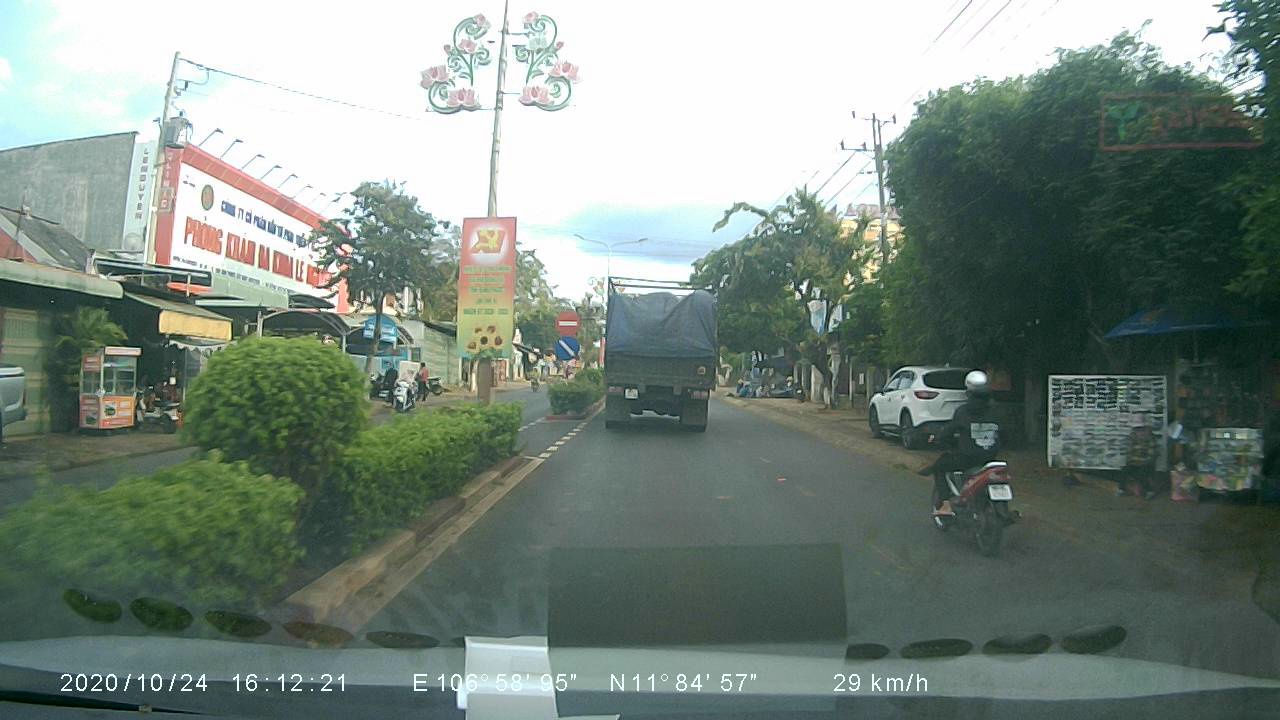Cam di nguoc chieu: (552, 305, 580, 335)
Huong di phai re phai: (550, 335, 578, 361)
